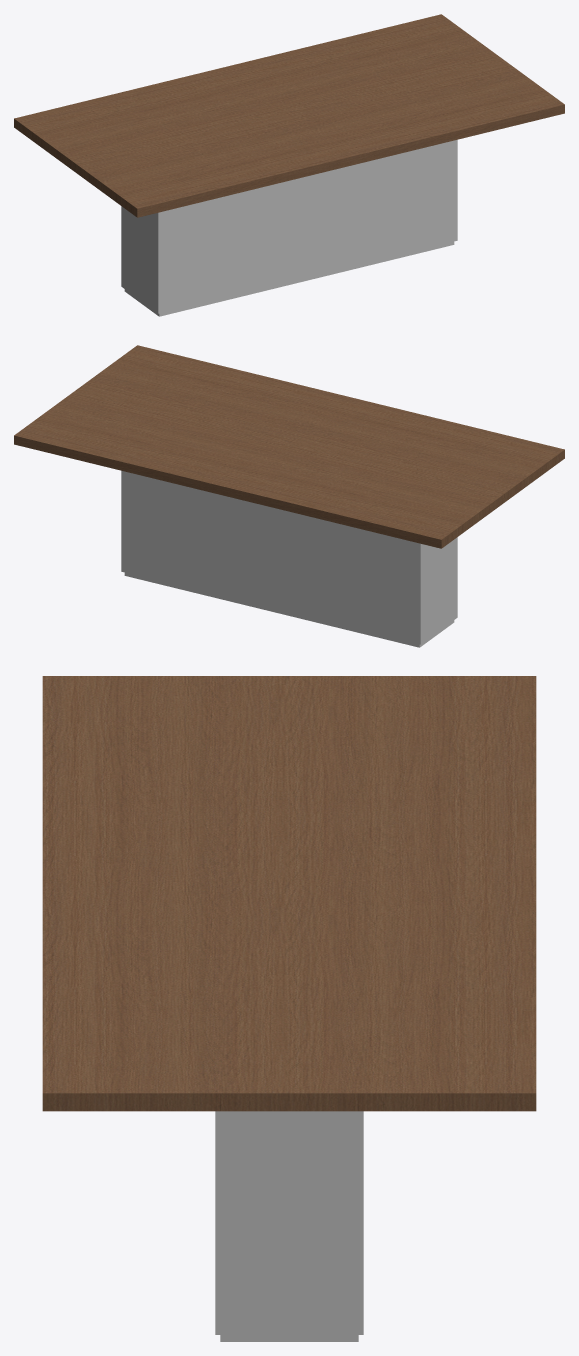
Rendered from Hana_D_Table_001.fbx.
The picture shows the model from 3 angles, top to bottom: view 1: azimuth 30°, elevation 25°; view 2: azimuth 150°, elevation 25°; view 3: azimuth 270°, elevation 25°; orthographic projection. The views are drawn at different scales.
Parts seen in each view (by area): view 1: Hana_D_Table_001; view 2: Hana_D_Table_001; view 3: Hana_D_Table_001.
Part boxes in pixels (left/top/right/bottom): Hana_D_Table_001: left=14, top=14, right=564, bottom=316; Hana_D_Table_001: left=14, top=345, right=564, bottom=647; Hana_D_Table_001: left=42, top=676, right=536, bottom=1341.
Bounding box in the file's own units: 2 × 0.7 × 1.
